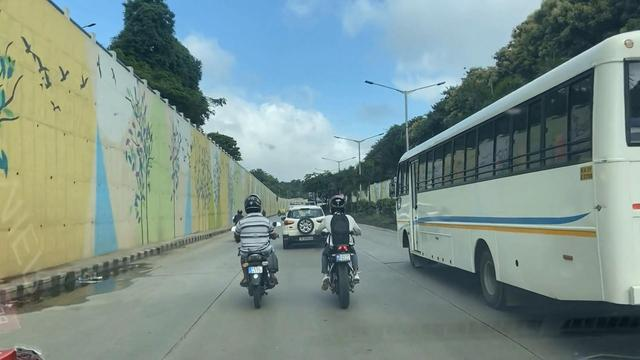HMV: (392, 47, 640, 295)
LMV: (236, 195, 279, 302), (319, 203, 359, 302), (282, 208, 320, 248)
